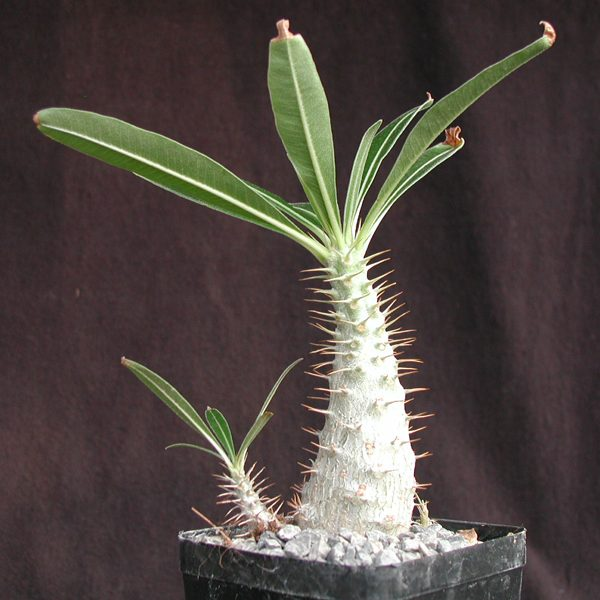Pachypodium rosulatum: (258, 123, 469, 538), (188, 403, 285, 544)
